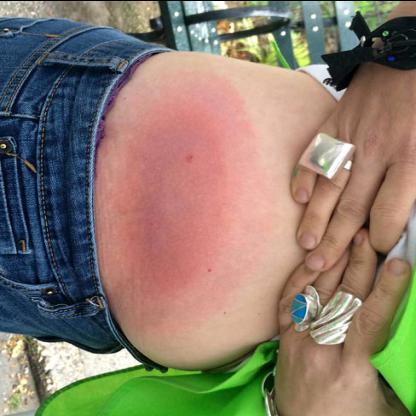Tick: (111, 72, 283, 330)
